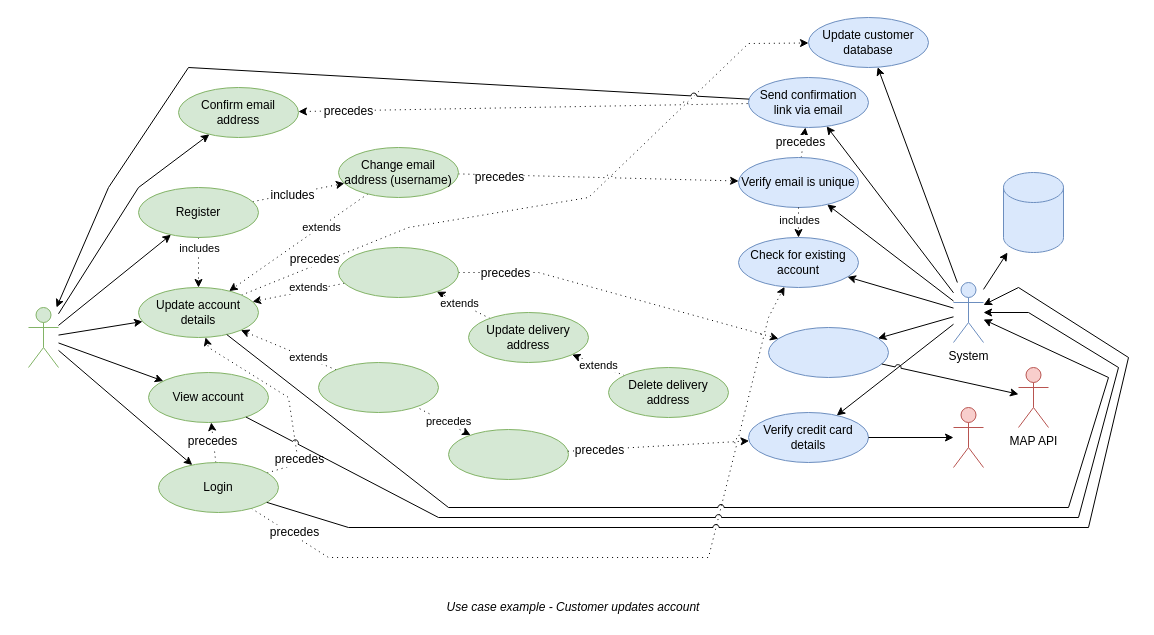
The diagram is 1154 pixels wide and 635 high, and some of its shapes have lost their labels. Each missing label, with the centre of its shape:
Add delivery address: the point at 398,272
Add payment method: the point at 378,387
Customer: the point at 43,337
Customer database: the point at 1033,212
Enter payment details: the point at 508,454
Third-party payment verification service: the point at 968,437
Verify valid address: the point at 828,352
